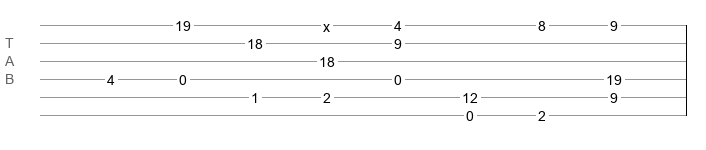0: (179, 72, 187, 82), (394, 72, 402, 82), (466, 108, 474, 118)
1: (251, 90, 259, 100)
12: (462, 90, 478, 100)
18: (247, 36, 263, 46), (319, 54, 335, 64)
19: (175, 18, 191, 28), (606, 72, 622, 82)
2: (323, 90, 331, 100), (538, 108, 546, 118)
4: (107, 72, 115, 82), (394, 18, 402, 28)
8: (538, 18, 546, 28)
9: (394, 36, 402, 46), (610, 90, 618, 100), (610, 18, 618, 28)
x: (323, 19, 330, 27)
